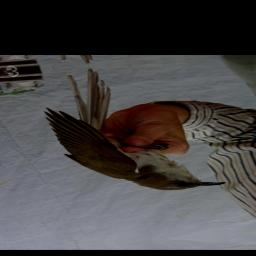Cuckoo: (32, 64, 229, 198)
